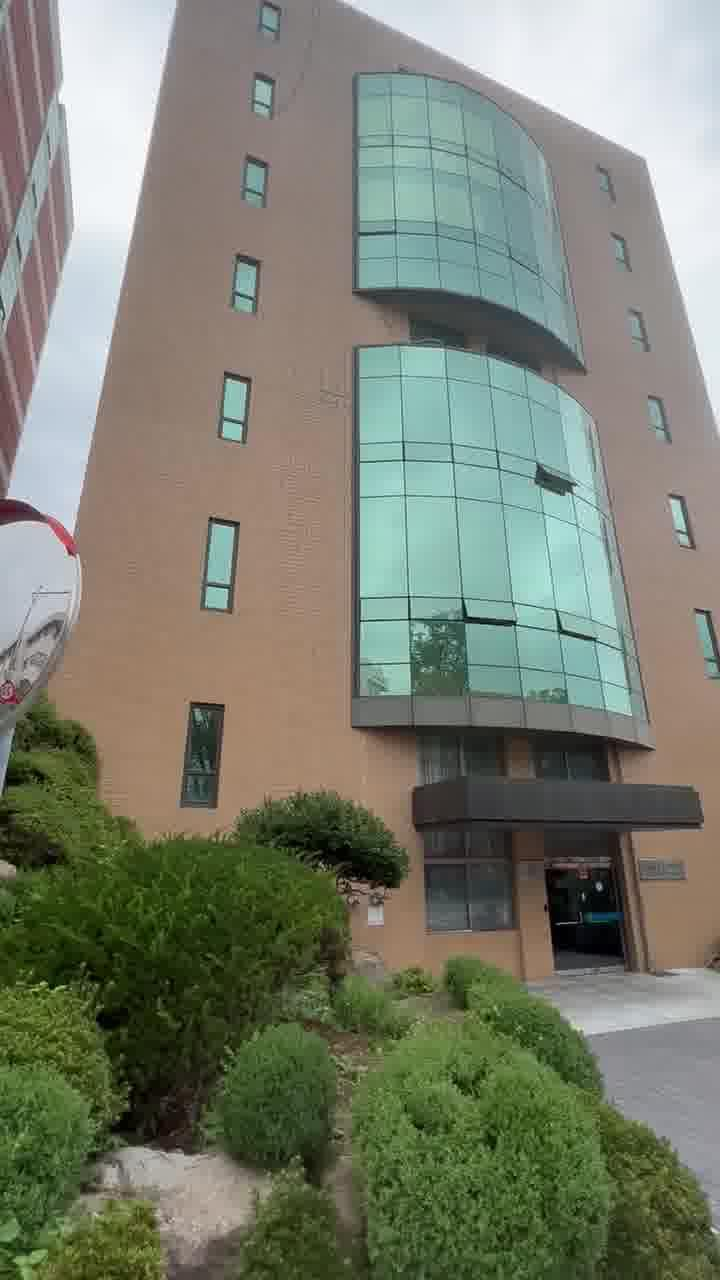building: (104, 36, 720, 838)
